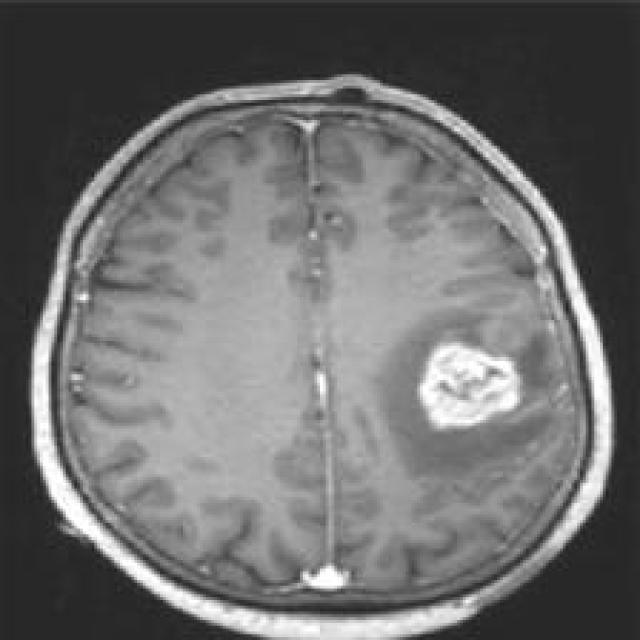glioma_tumor: (370, 303, 562, 490)
